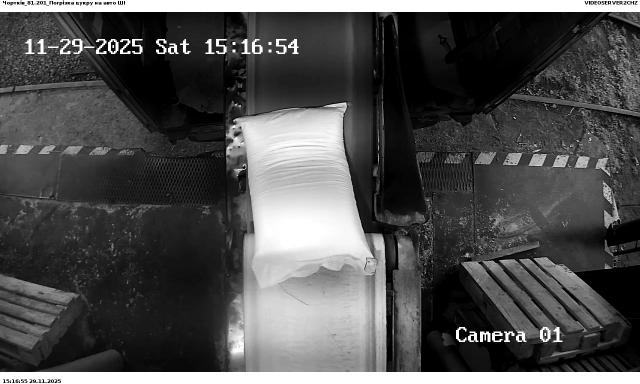bag: (238, 102, 378, 288)
